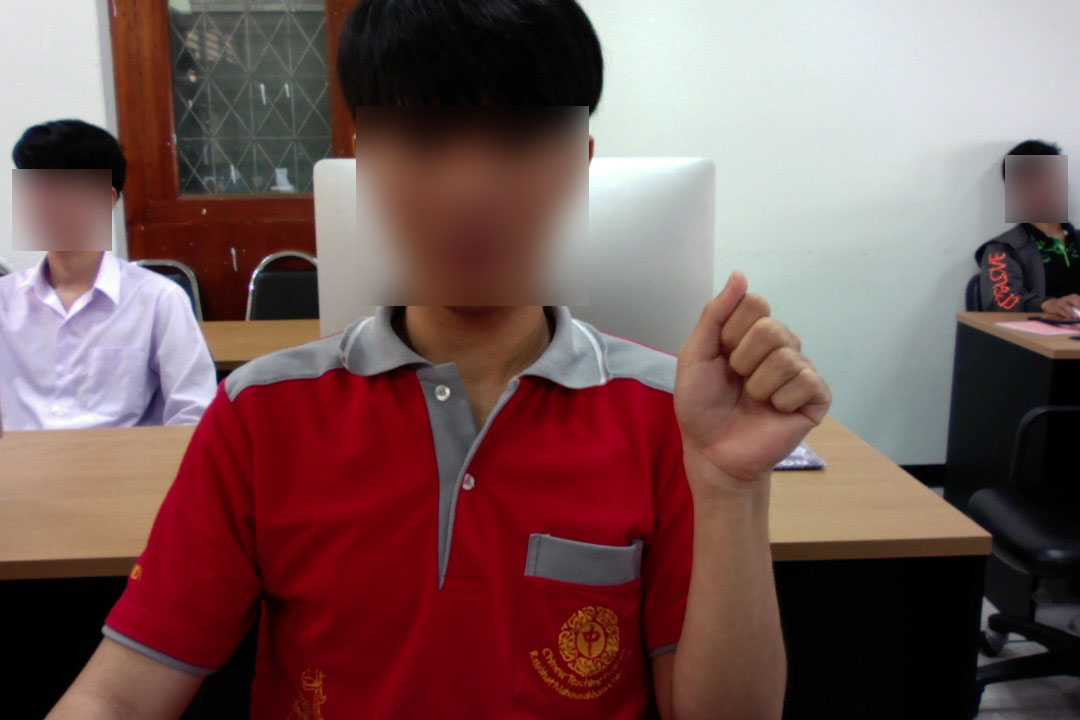or: (669, 266, 839, 489)
